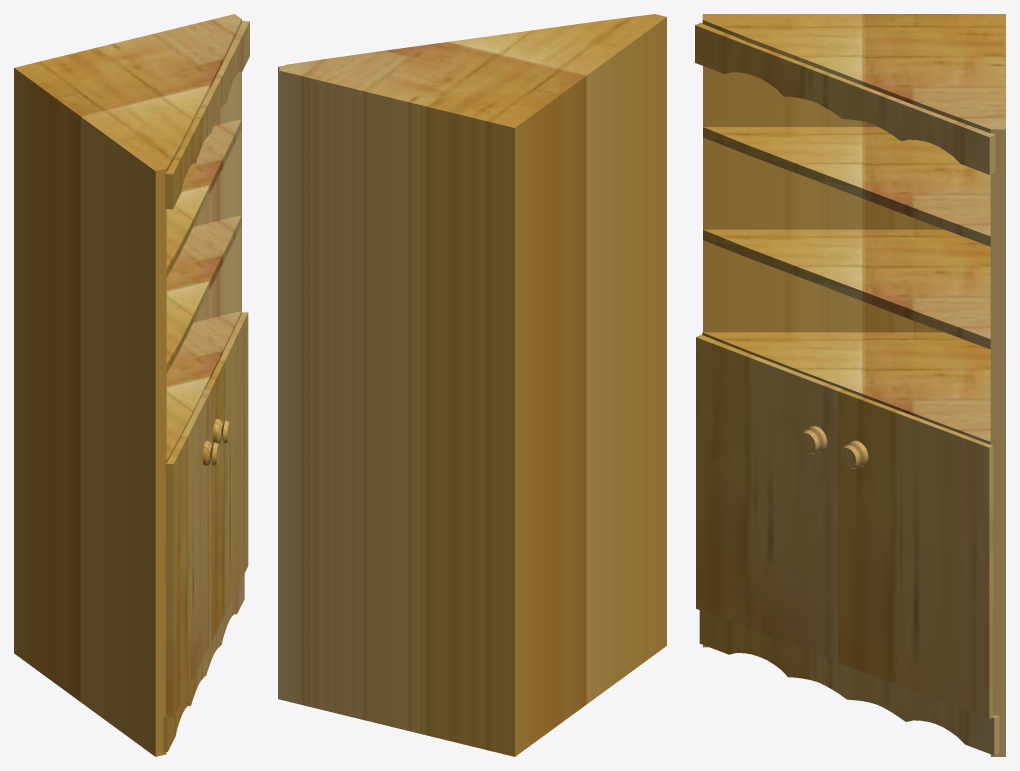
File: sweethome3d-contributions-wood-corner-china-228.glb
3 views of the same model, side by side, from view 1: azimuth 30°, elevation 25°; view 2: azimuth 150°, elevation 25°; view 3: azimuth 270°, elevation 25° (orthographic). The views are drawn at different scales.
Parts seen in each view (by area): view 1: PolyMesh_1, PolyMesh_1_2, PolyMesh_1_1, Decorative_trim, Decorative_trim_1; view 2: PolyMesh_1; view 3: PolyMesh_1, PolyMesh_1_1, PolyMesh_1_2, Decorative_trim, Decorative_trim_1, PolyMesh_2_1, PolyMesh_2.
Boxes of the visible parts, x1,y1,x2,y2 form: PolyMesh_1: [14, 14, 241, 756]; PolyMesh_1_2: [165, 390, 210, 717]; PolyMesh_1_1: [205, 312, 248, 642]; Decorative_trim: [165, 20, 249, 209]; Decorative_trim_1: [163, 574, 244, 751]; PolyMesh_1: [278, 14, 666, 756]; PolyMesh_1: [702, 14, 1005, 756]; PolyMesh_1_1: [838, 389, 993, 719]; PolyMesh_1_2: [696, 334, 842, 662]; Decorative_trim: [695, 22, 995, 174]; Decorative_trim_1: [699, 610, 999, 755]; PolyMesh_2_1: [840, 440, 868, 468]; PolyMesh_2: [799, 426, 827, 453].
Size of the model in its own units: 1.49 by 3.65 by 1.64.
1 material, 1 textured.
